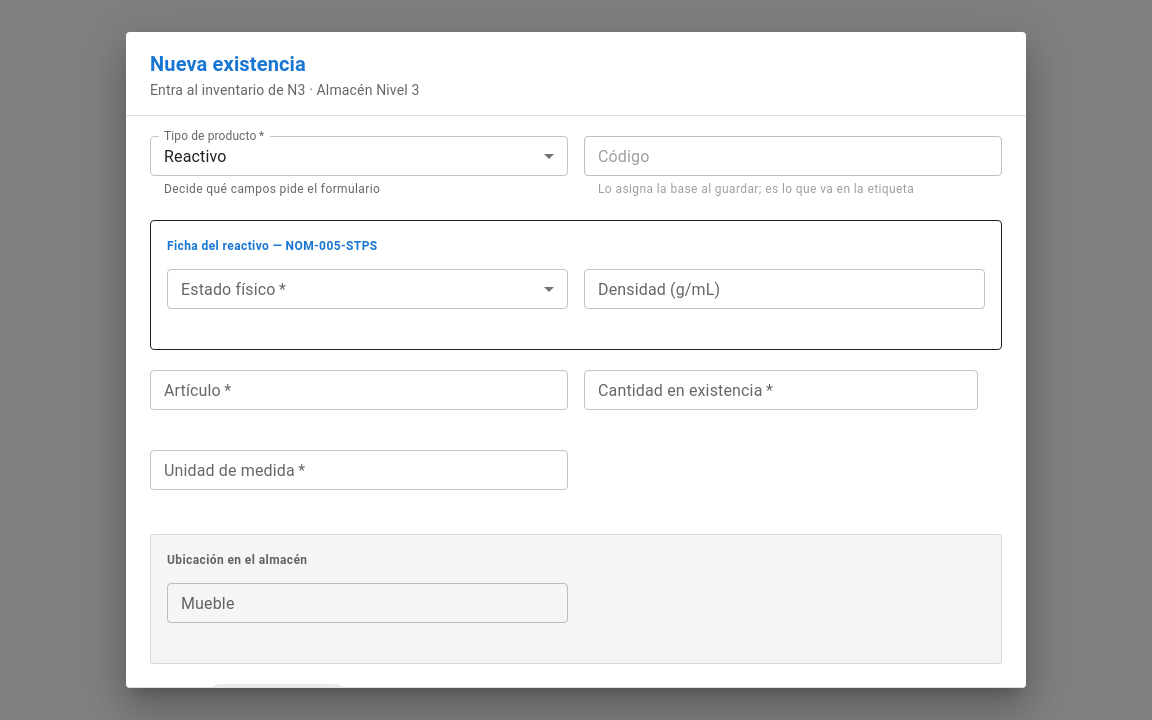
Test: DialogoNuevaExistencia › cambiar de tipo cambia los campos
Expected: the field labelled "Número de serie" is not shown
Step 1. Click the dropdown named "Tipo de producto" → (195,156), box x1=164 y1=147 x2=226 y2=166
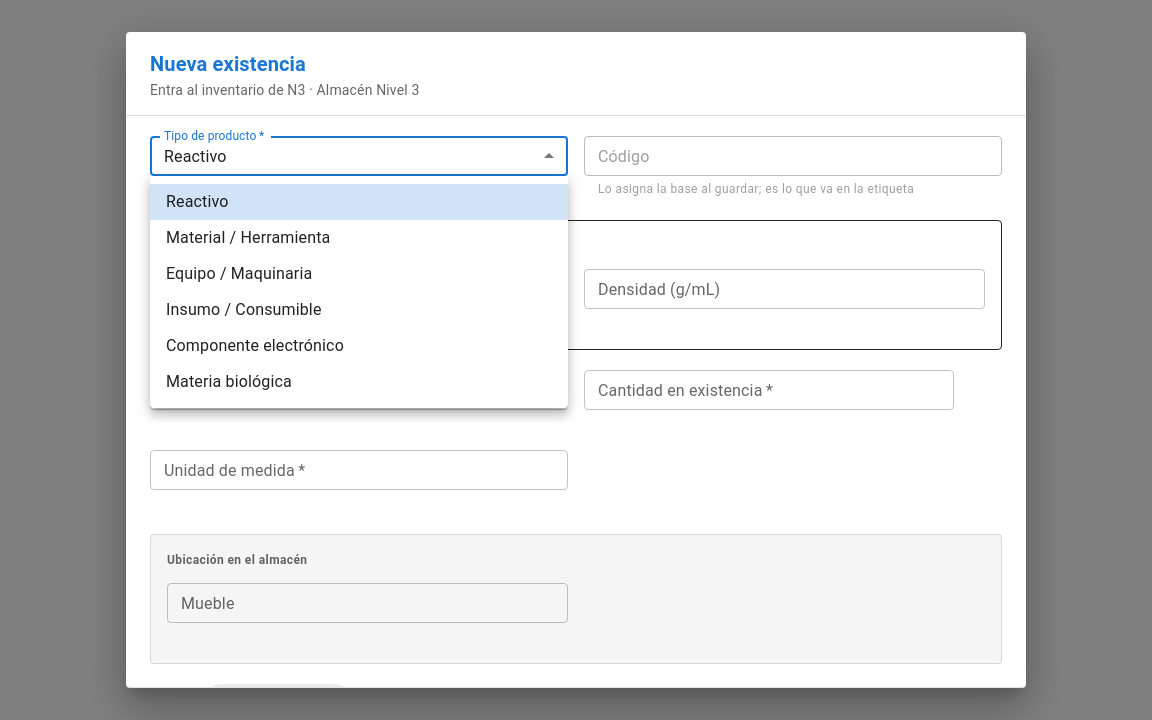
Step 2. Click the option "Equipo / Maquinaria" → (239,274), box x1=166 y1=264 x2=312 y2=283
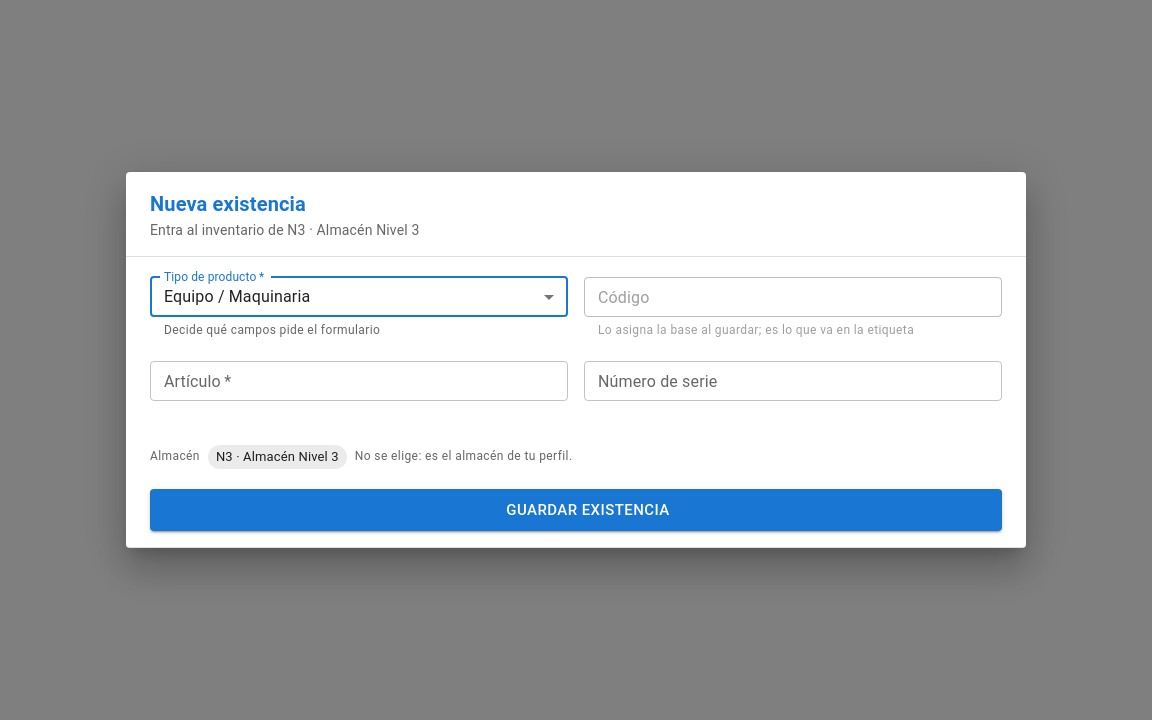
Expected: the field labelled "Número de serie" is shown, x1=584 y1=361 x2=1002 y2=401
Expected: the label labelled "Densidad" is gone
